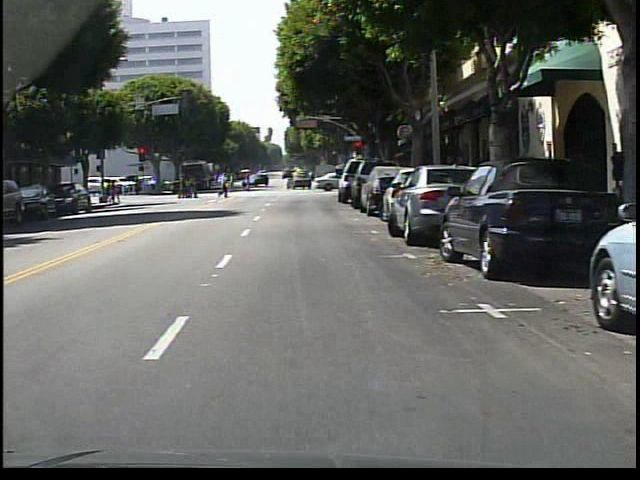person: (211, 169, 232, 199)
